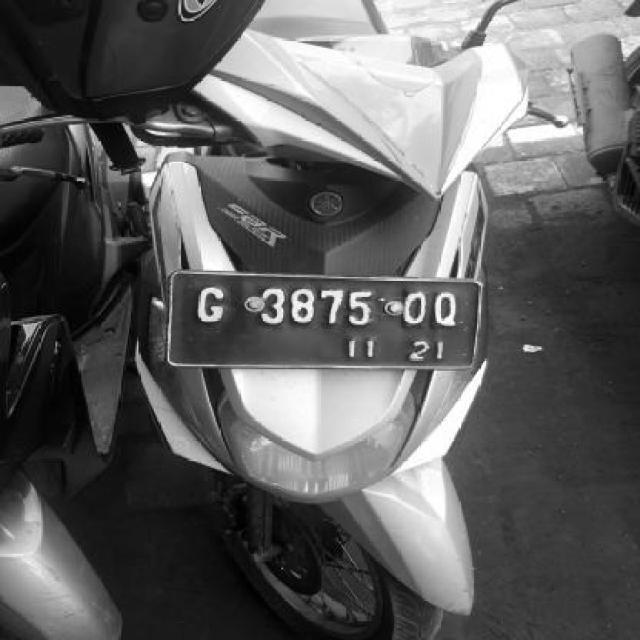3: (253, 285, 289, 330)
5: (346, 282, 379, 332)
7: (318, 284, 347, 325)
8: (292, 285, 322, 325)
G: (190, 282, 232, 330)
O: (402, 287, 427, 337)
Q: (431, 288, 460, 340)
